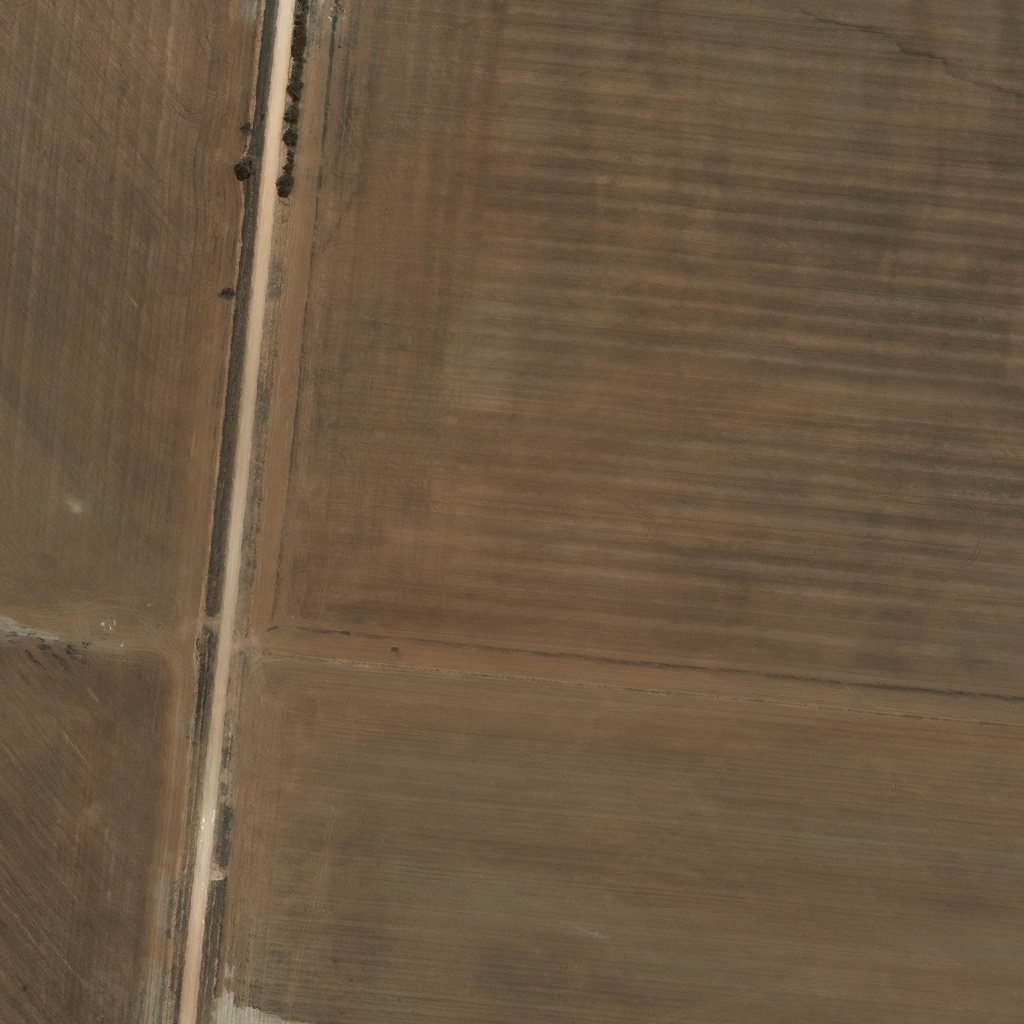4 un-classified: (17, 577, 27, 585)
